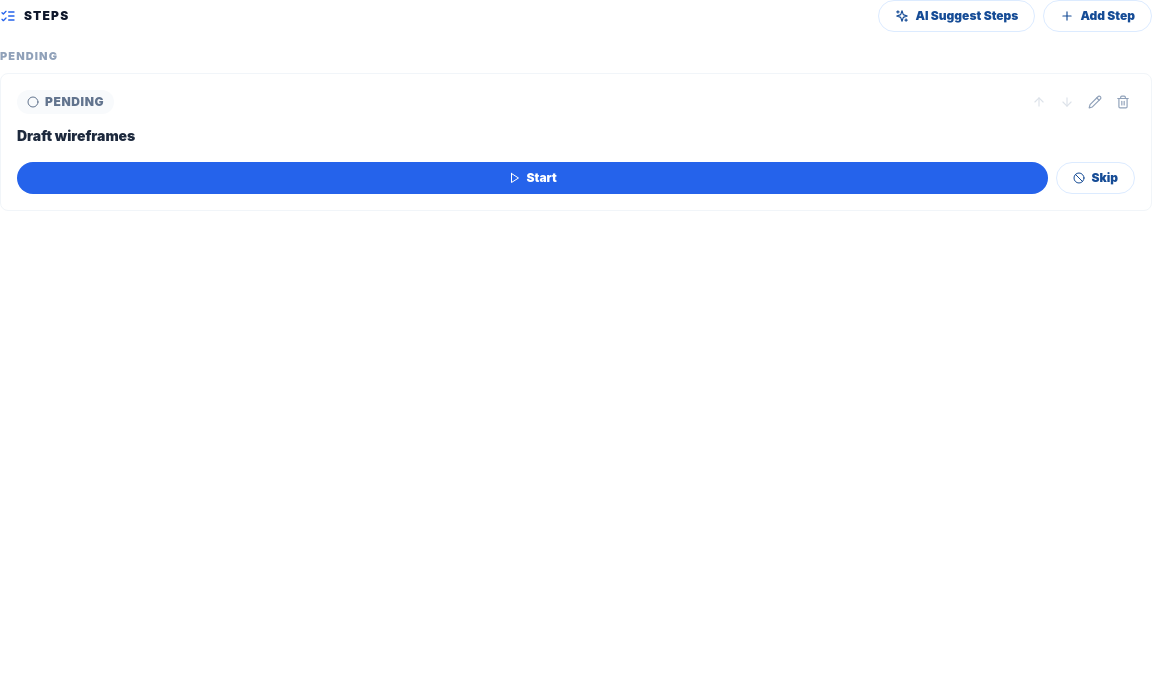
StepBoard › does not re-offer an already-saved draft step for resubmission after a mid-save failure
Step 1. Click the button "AI Suggest Steps" → (957, 16), box [878, 0, 1035, 32]
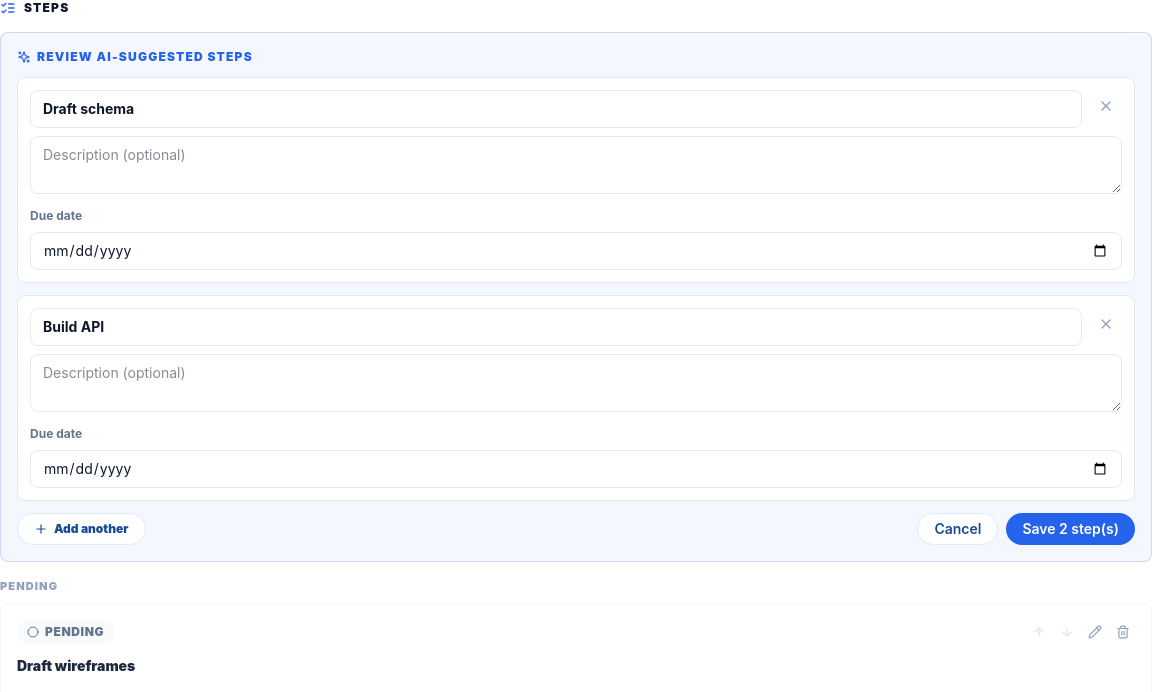
Step 2. Click the button "Save 2 step(s)" → (1071, 529), box [1006, 513, 1135, 545]
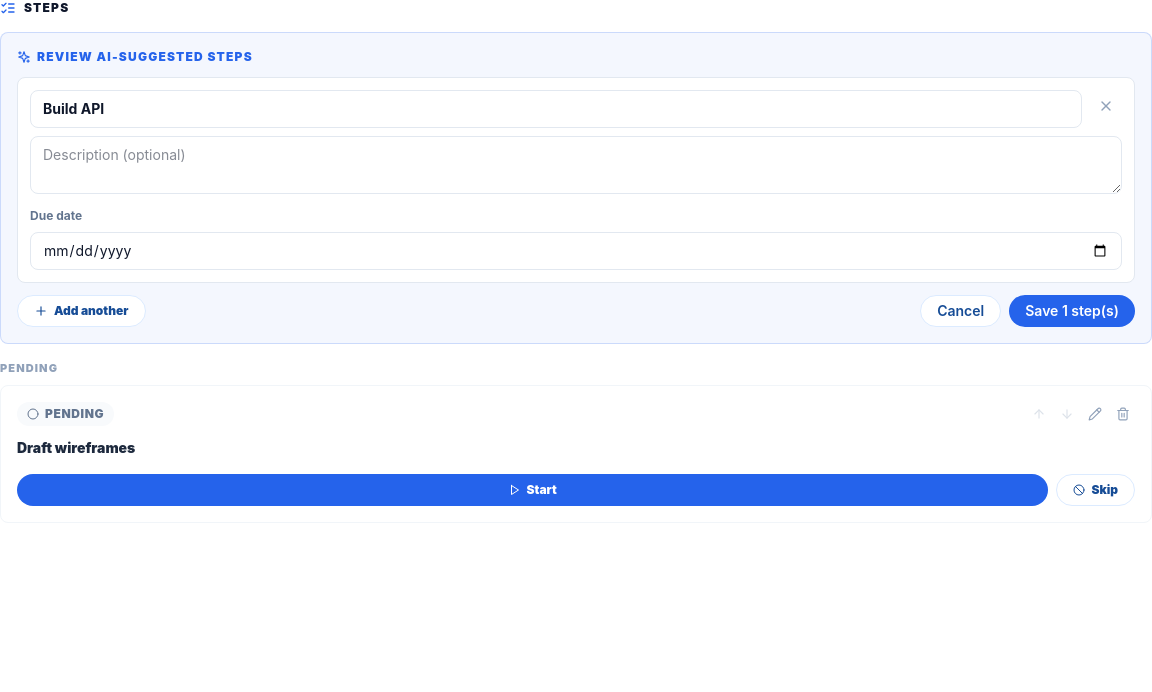
Expected: the field showing "Draft schema" is not shown
Expected: the field showing "Build API" is shown, [30, 90, 1082, 128]
